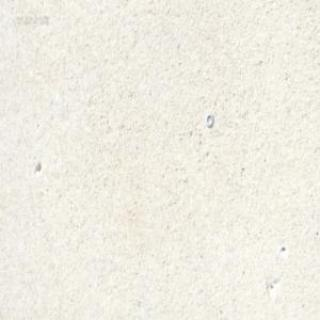Washertrack_idkeyframe: (204, 111, 212, 127)
